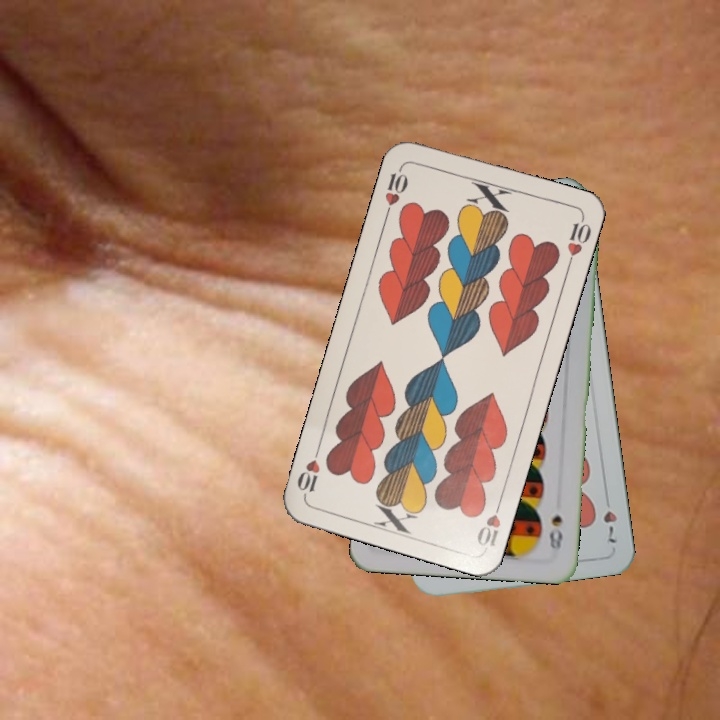H10: (472, 494, 505, 550), (381, 162, 411, 220)
H7: (599, 490, 619, 546)
S8: (545, 510, 565, 554)
